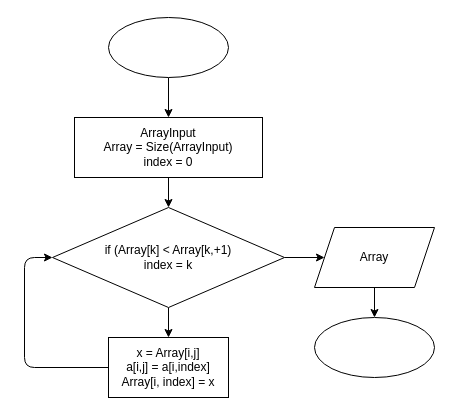
Some shapes in this 452 by 415 pixel diagram are drawn without their labels. Each missing label, with the box of its shape:
END: (314, 316, 434, 378)
START: (108, 16, 228, 78)
